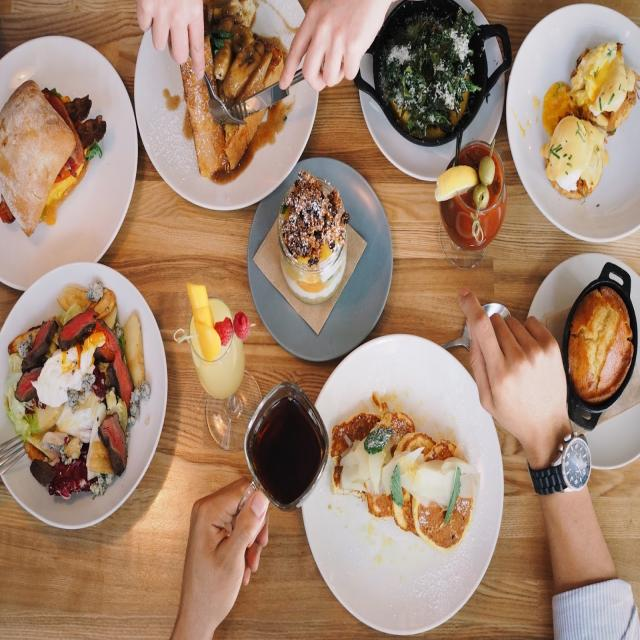canh: (369, 10, 486, 154)
do ngot: (0, 270, 139, 514), (0, 61, 101, 235), (542, 20, 627, 212), (336, 415, 472, 531), (269, 160, 350, 305), (573, 278, 631, 408)
